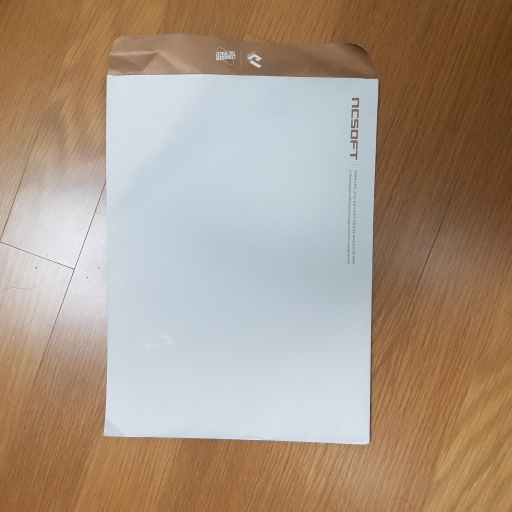Paper_2: (92, 30, 396, 460)
